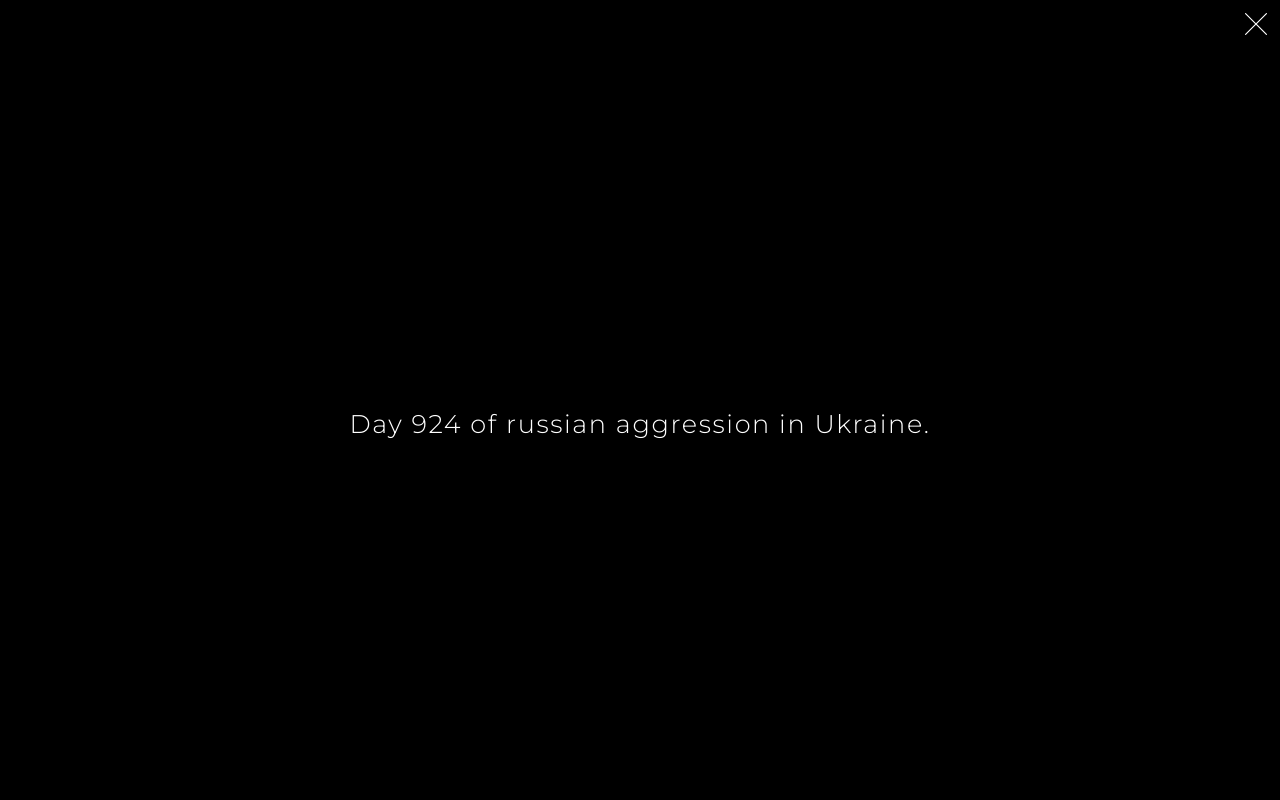
Test: Modal › should › can be closed
This screenshot has width=1280, height=800.
What coordinates should you click on to do the following:
click the button with test id "close-modal"
I would click on:
 (1256, 24)
Its box is [1232,0,1279,48].
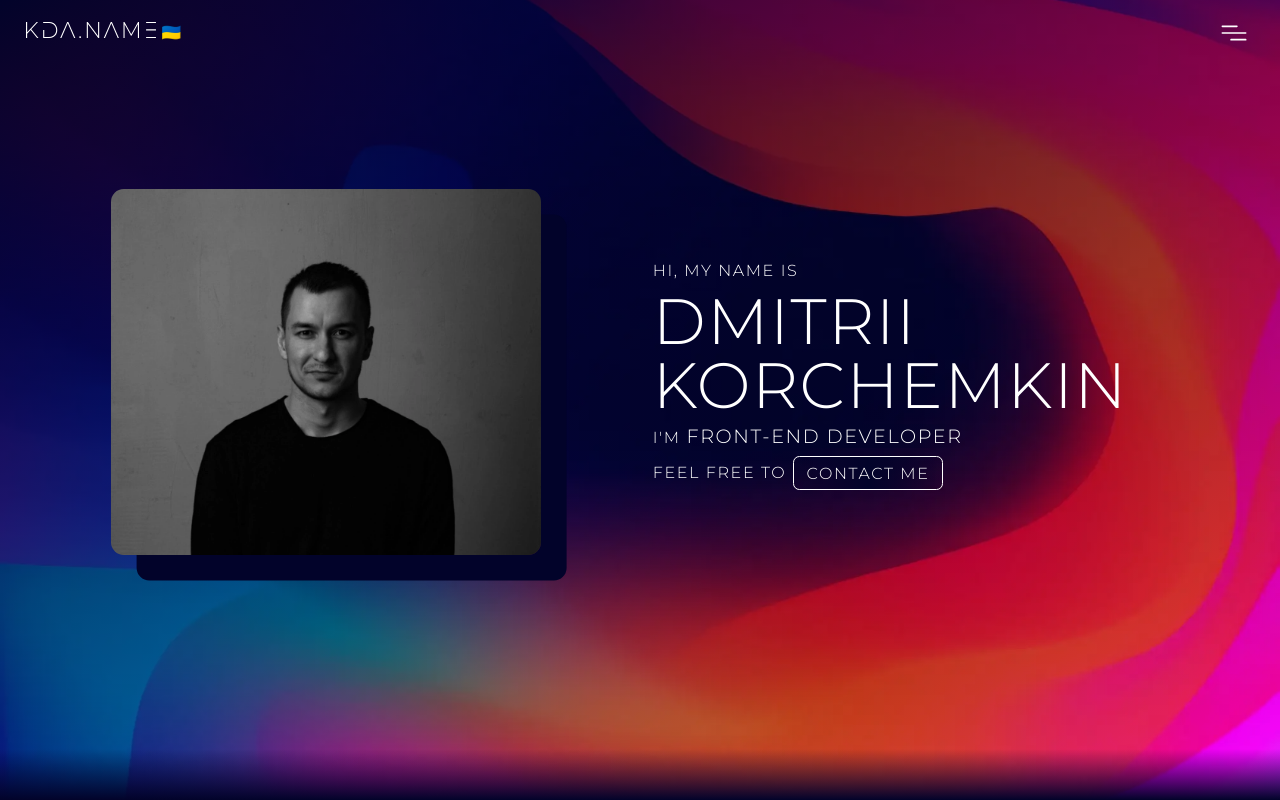
Result: the button with test id "modal" is gone
